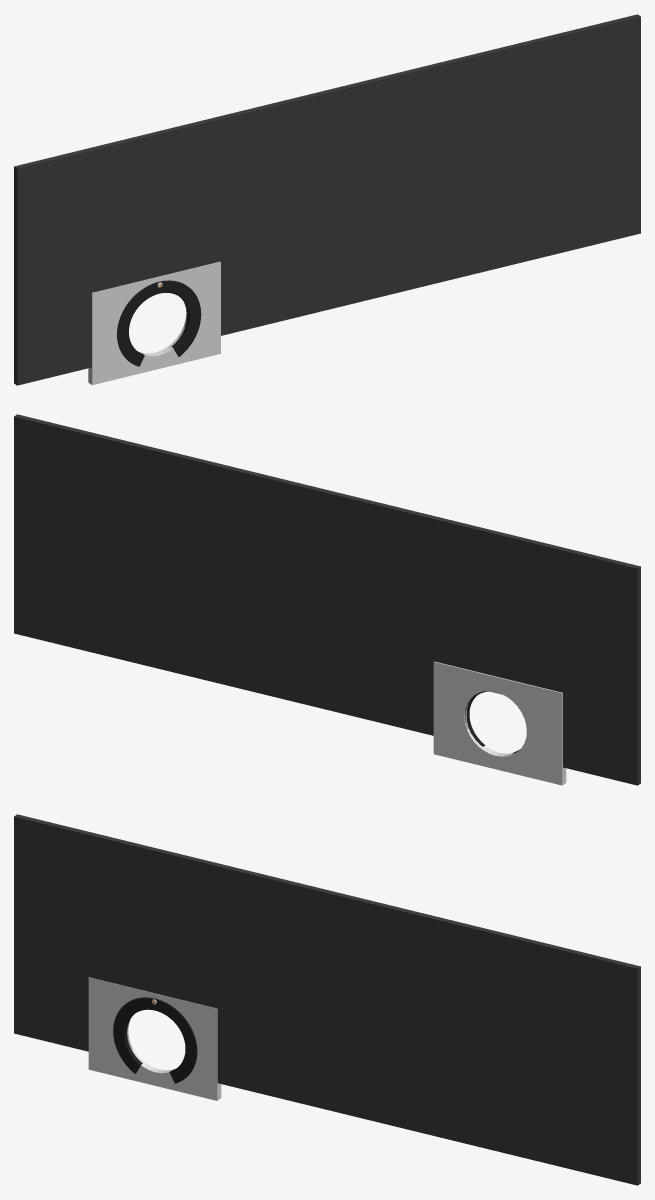
The model's file is DoorFrameWithWall.fbx.
The picture shows the model from 3 angles, top to bottom: view 1: azimuth 30°, elevation 25°; view 2: azimuth 150°, elevation 25°; view 3: azimuth 330°, elevation 25°; orthographic projection.
Parts seen in each view (by area): view 1: Wall_8, Cube, Round_Door_Frame_Main; view 2: Wall_8, Cube; view 3: Wall_8, Cube, Round_Door_Frame_Main.
Part boxes in pixels (box(x1,y1,x2,y2)): Wall_8: box(14, 14, 640, 385); Cube: box(88, 261, 220, 385); Round_Door_Frame_Main: box(117, 280, 201, 366); Wall_8: box(14, 414, 640, 785); Cube: box(433, 661, 566, 785); Wall_8: box(14, 814, 640, 1185); Cube: box(88, 977, 221, 1100); Round_Door_Frame_Main: box(113, 997, 197, 1083).
Size of the model in its own units: 4805 by 1727 by 75.17.
